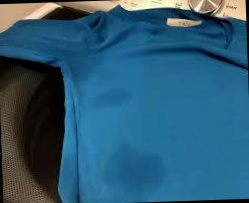oil: (100, 148, 167, 194), (82, 78, 133, 119)
